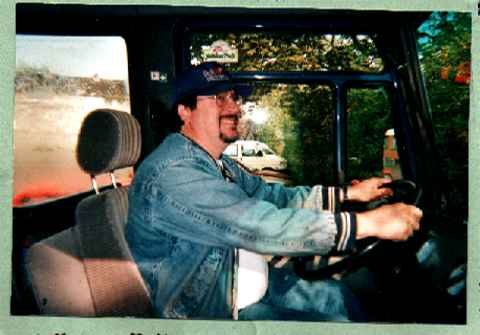person: (124, 61, 425, 325)
